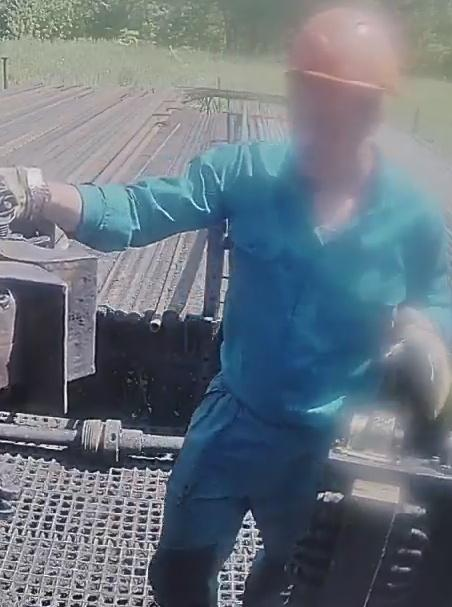gloves: (371, 306, 452, 423), (0, 165, 73, 234)
helmet: (281, 7, 405, 98)
vest: (207, 138, 407, 440)
